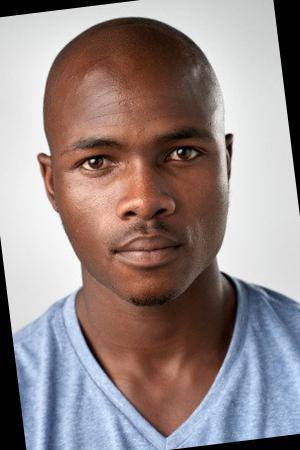Sober: (55, 58, 228, 296)
